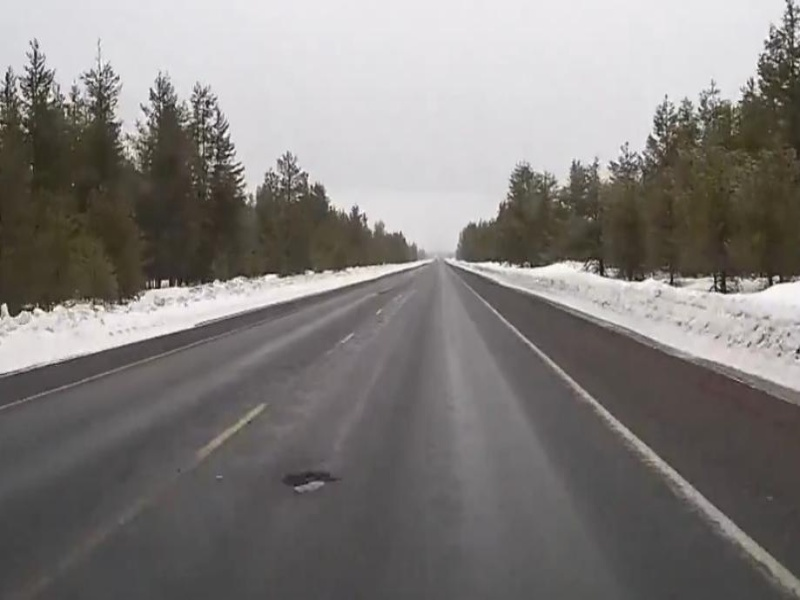pothole: (280, 468, 334, 499)
